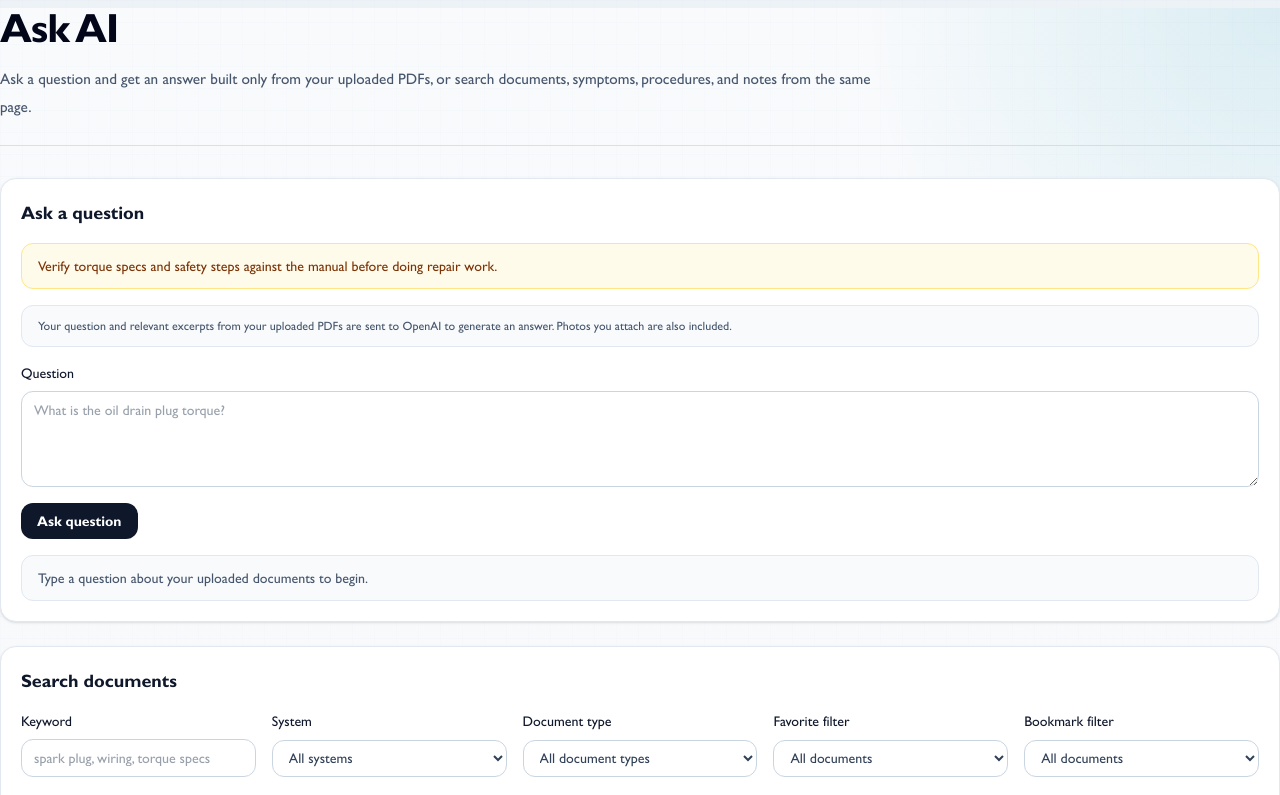
Test: Clear returns the section to the bounded idle listing
Type "brake" into the field labelled "Keyword" at point(138, 758), box top-left (21, 739), bottom-right (256, 777)
(page scrolled)
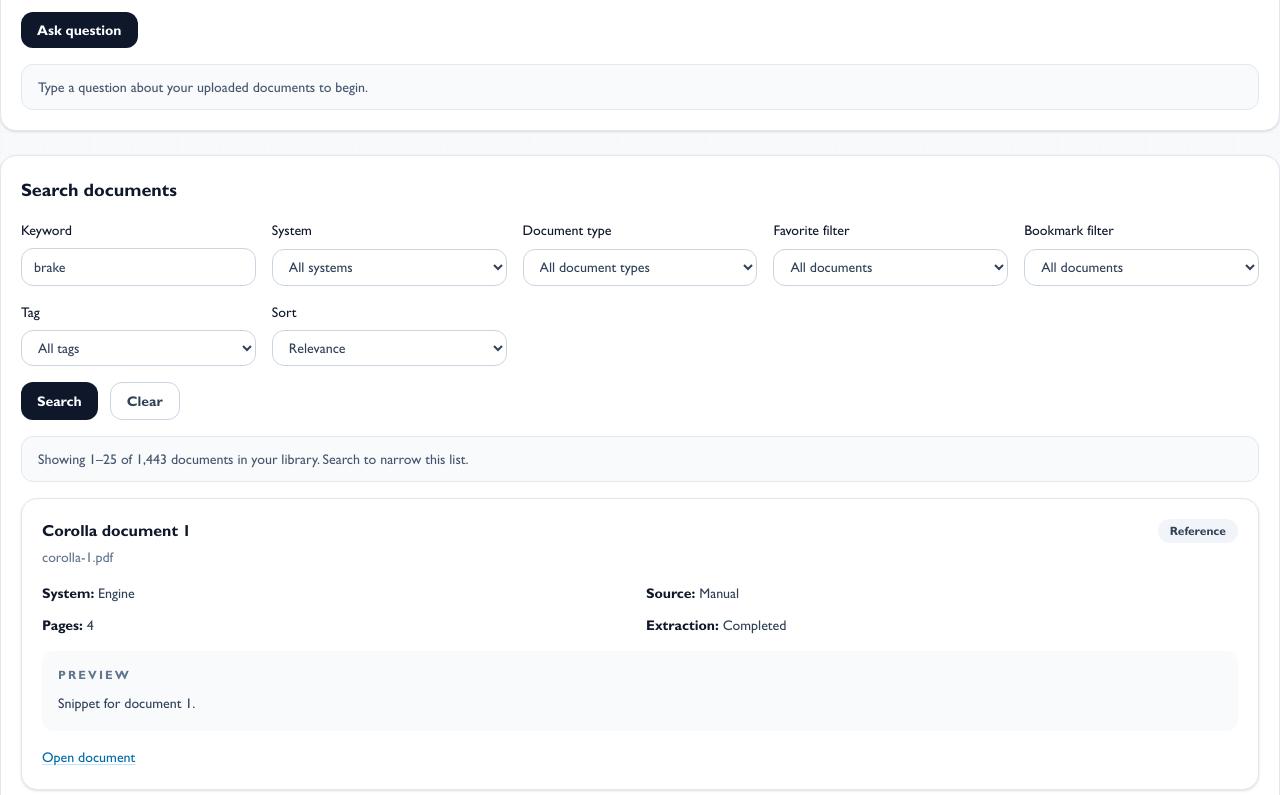
Click the button "Search" at point(59, 401), box top-left (21, 382), bottom-right (98, 420)
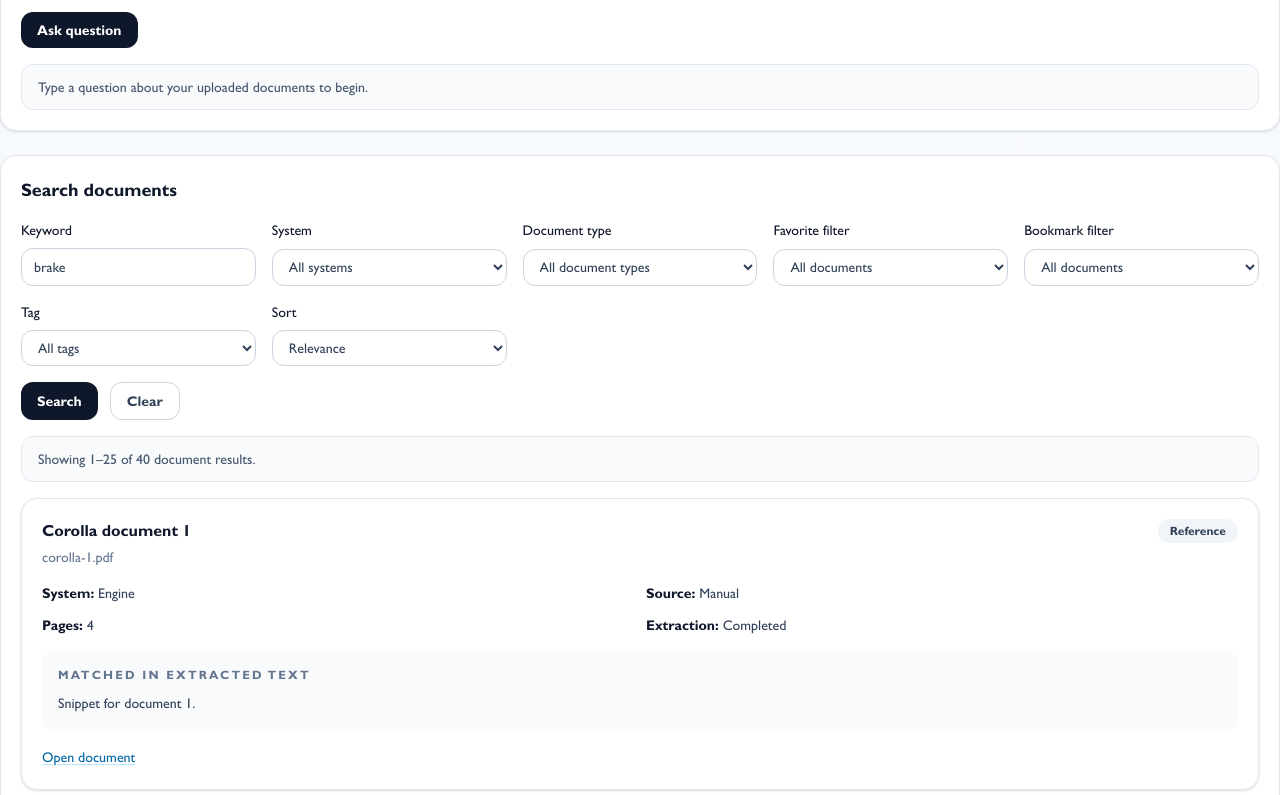
Result: the text "Showing 1–25 of 40 document results." is shown at top-left (21, 436), bottom-right (1259, 482)
Click the button "Clear" at point(145, 401), box top-left (110, 382), bottom-right (180, 420)
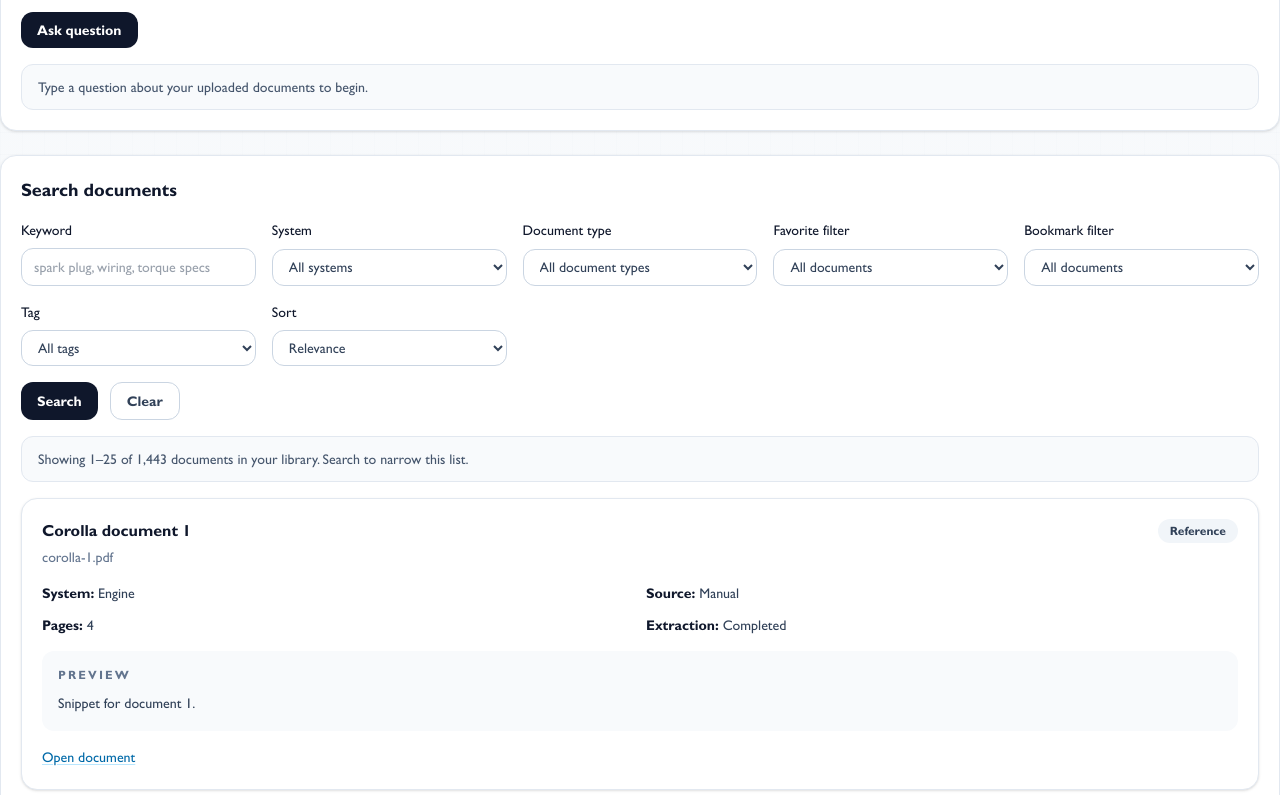
Result: the text "Showing 1–25 of 1,443 documents in your library. Search to narrow this list." is shown at top-left (21, 436), bottom-right (1259, 482)
